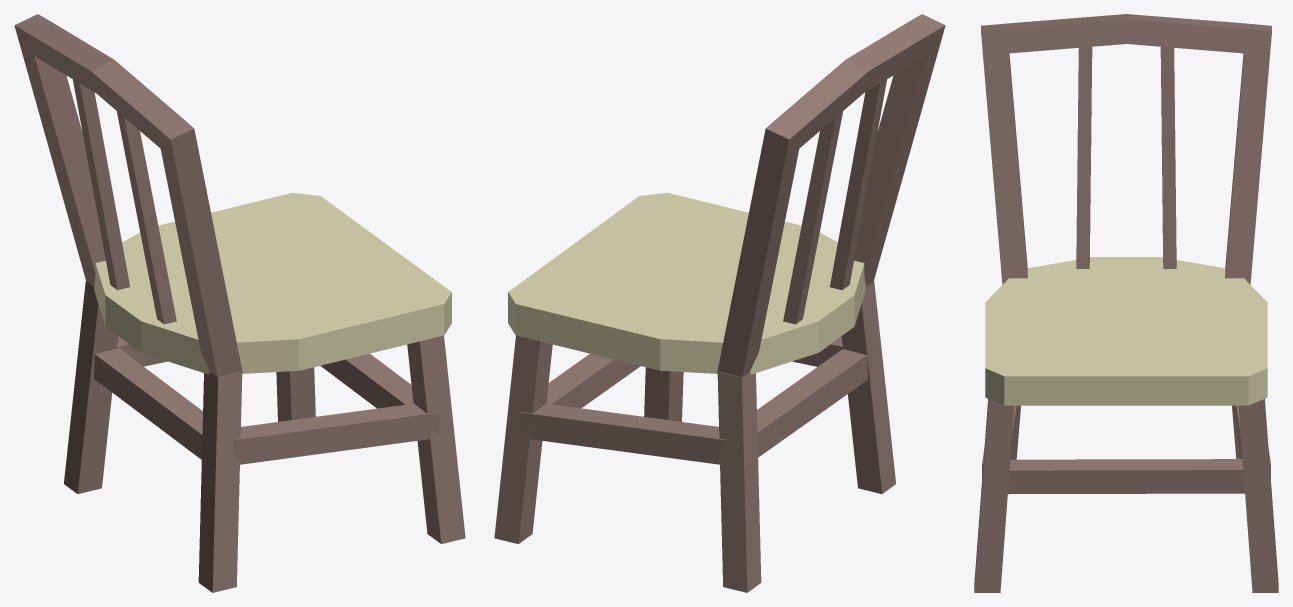
The model's file is Chair.fbx.
3 renders of one model, left to right at view 1: azimuth 30°, elevation 25°; view 2: azimuth 150°, elevation 25°; view 3: azimuth 270°, elevation 25°, orthographic. The views are drawn at different scales.
Parts seen in each view (by area): view 1: Chair.001; view 2: Chair.001; view 3: Chair.001.
Boxes of the visible parts, x1,y1,x2,y2 form: Chair.001: (14,14,465,592); Chair.001: (494,14,945,592); Chair.001: (974,14,1278,592).
Size of the model in its own units: 104 by 99.77 by 163.
